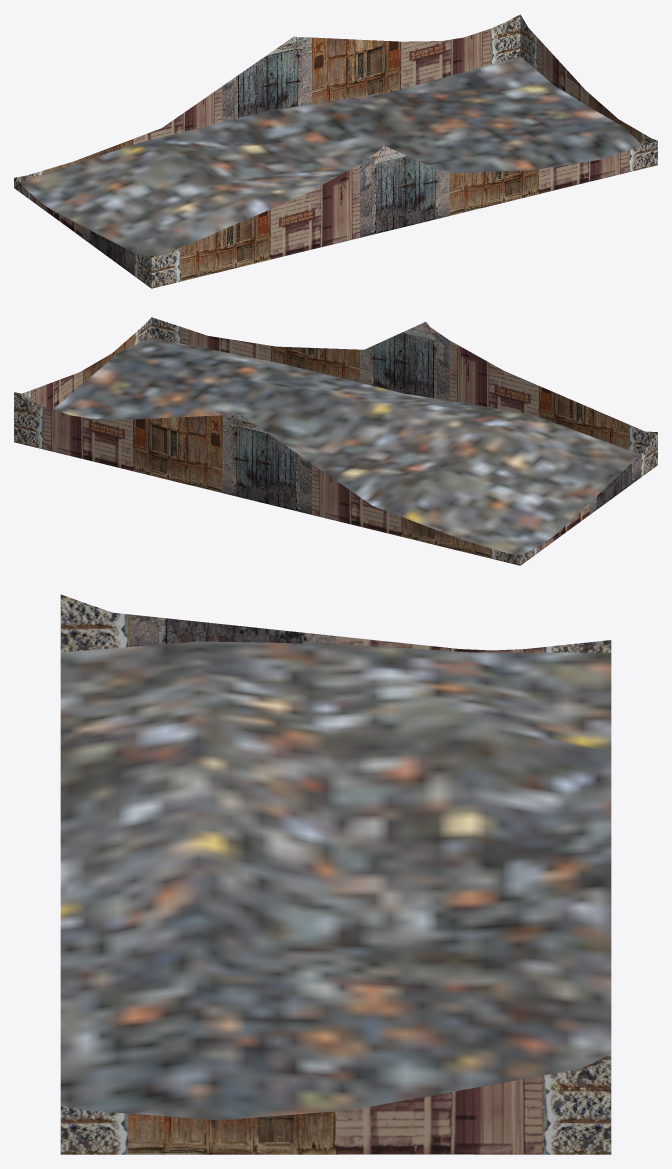
File: House_010_destroyed_002.dae
3 views of the same model, one above another, from view 1: azimuth 30°, elevation 25°; view 2: azimuth 150°, elevation 25°; view 3: azimuth 270°, elevation 25° (orthographic). The views are drawn at different scales.
Visible parts, largest first — view 1: House_010; view 2: House_010; view 3: House_010.
Boxes of the visible parts, x1,y1,x2,y2 form: House_010: [14, 14, 657, 288]; House_010: [14, 317, 657, 565]; House_010: [60, 594, 611, 1154].
Bounding box in the file's own units: 136 × 64 × 22.3.
Materials: 1 (1 with a texture image).
